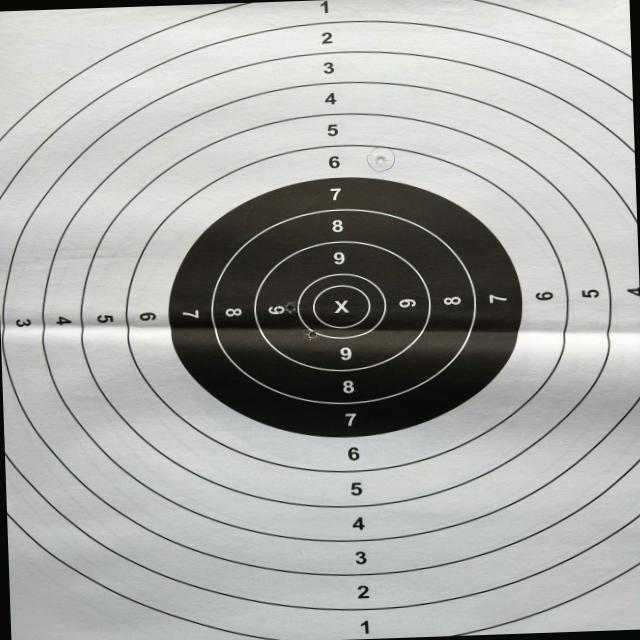bullet: (375, 154, 386, 166), (284, 301, 295, 313), (309, 328, 316, 336)
target: (0, 0, 640, 640)
